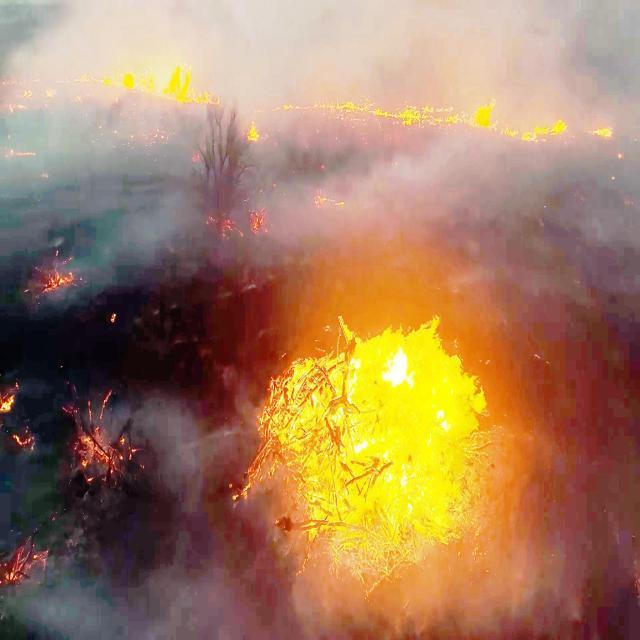Fire: (265, 267, 476, 563), (106, 37, 196, 114)
